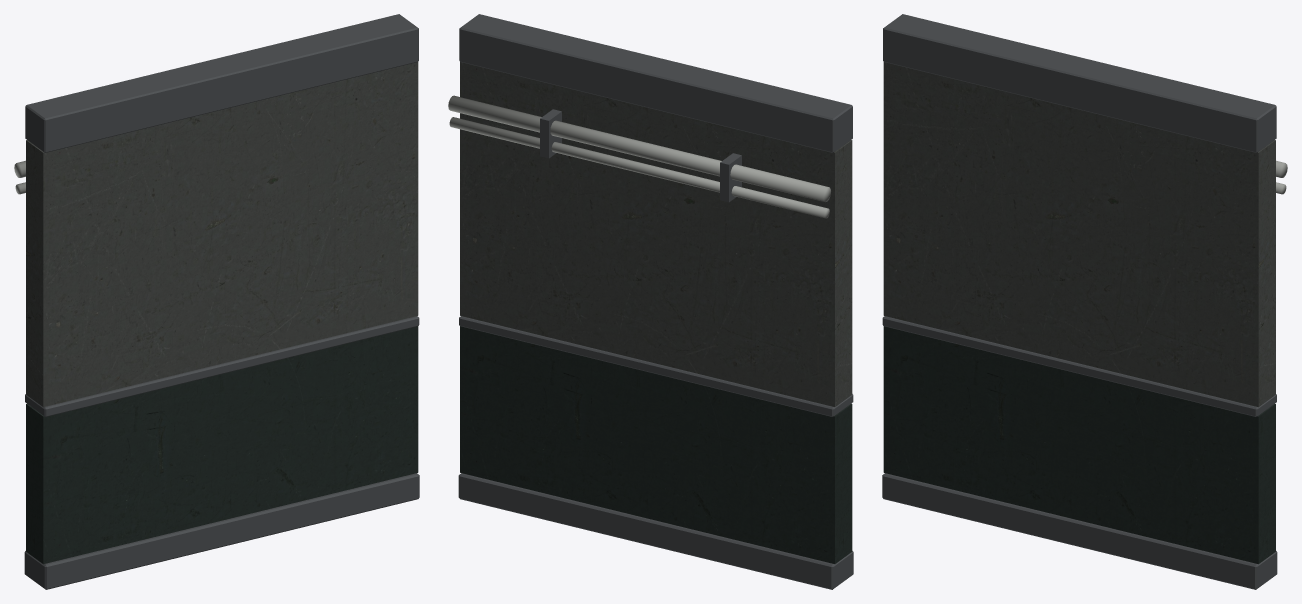
Rendered from wall_conduit.glb.
The picture shows the model from 3 angles, left to right: view 1: azimuth 30°, elevation 25°; view 2: azimuth 150°, elevation 25°; view 3: azimuth 330°, elevation 25°; orthographic projection.
Parts seen in each view (by area): view 1: wall_conduit; view 2: wall_conduit; view 3: wall_conduit.
Part boxes in pixels (x1,y1,x2,y2): wall_conduit: (14, 14, 419, 589); wall_conduit: (448, 14, 853, 589); wall_conduit: (882, 14, 1287, 589).
Size of the model in its own units: 2.5 by 3 by 0.375.
Materials: 4 (2 with a texture image).
